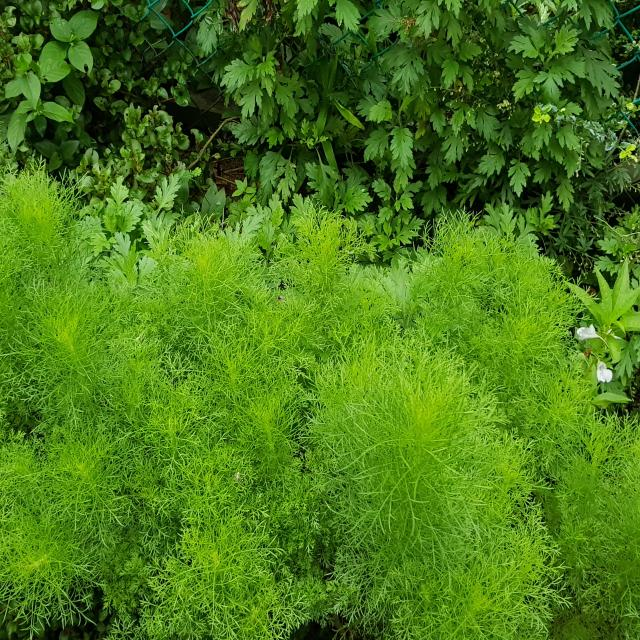Dill: (9, 194, 356, 640), (271, 255, 580, 640)
